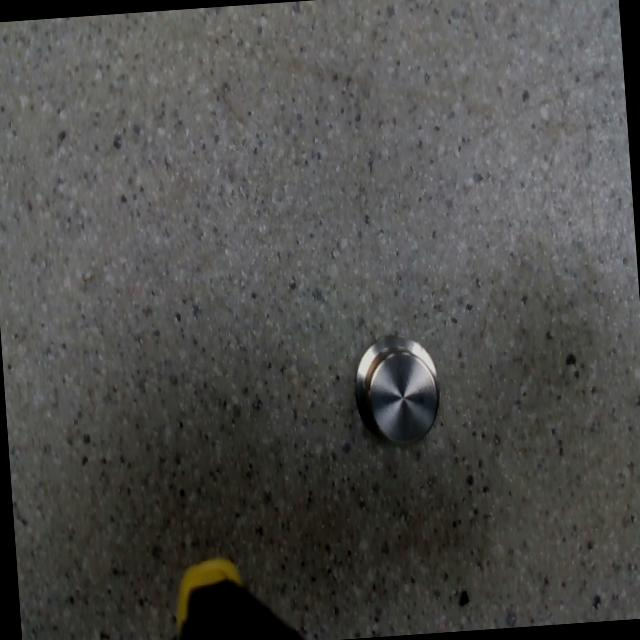sensor: (352, 332, 442, 446)
